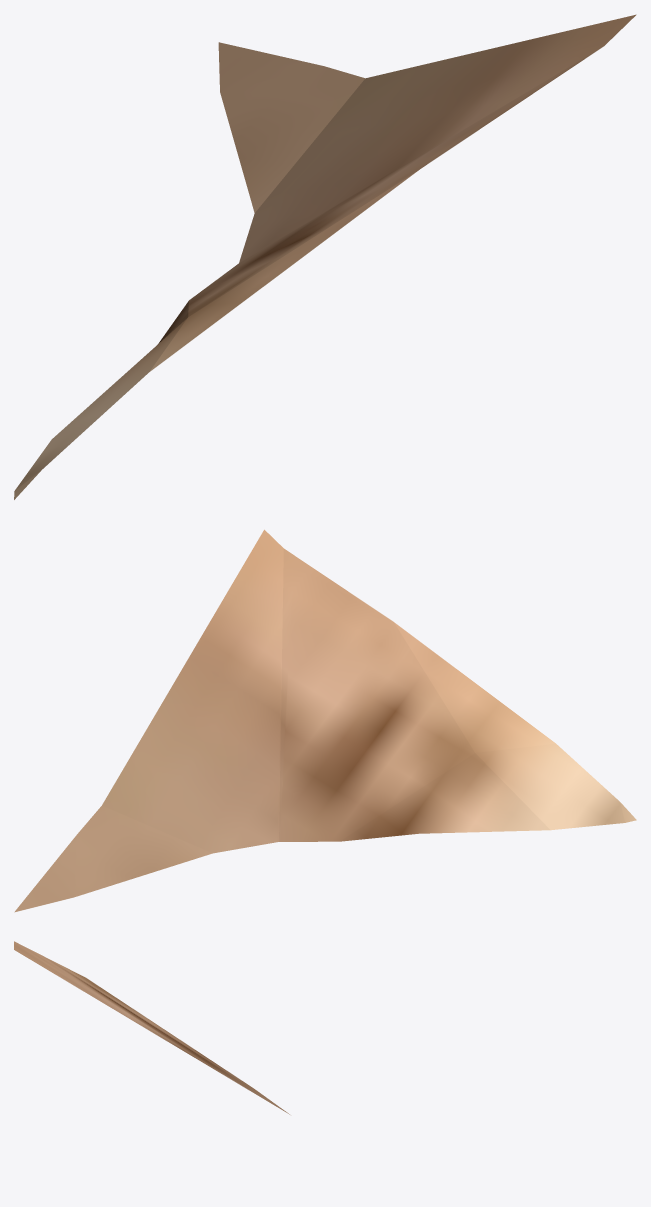
3 views of the same model, one above another, from view 1: azimuth 30°, elevation 25°; view 2: azimuth 150°, elevation 25°; view 3: azimuth 270°, elevation 25° (orthographic). The views are drawn at different scales.
Size of the model in its own units: 0.0669 by 0.0343 by 0.0778.
1 material, 1 textured.
